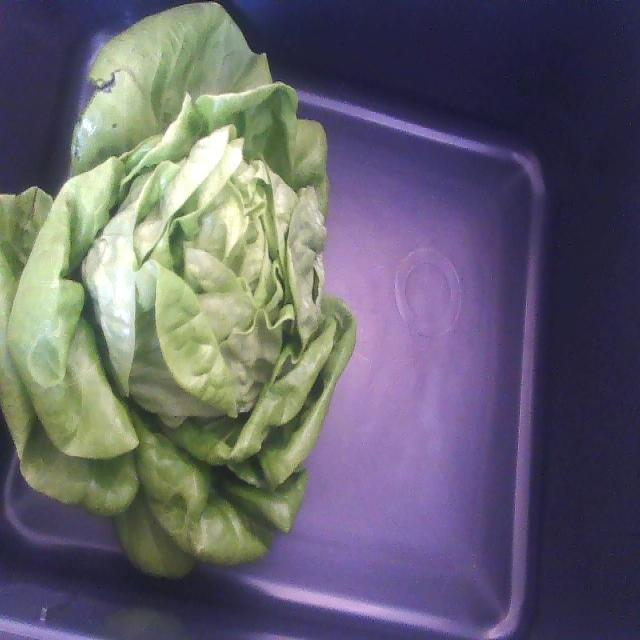Lettuce-plant: (0, 4, 355, 576)
